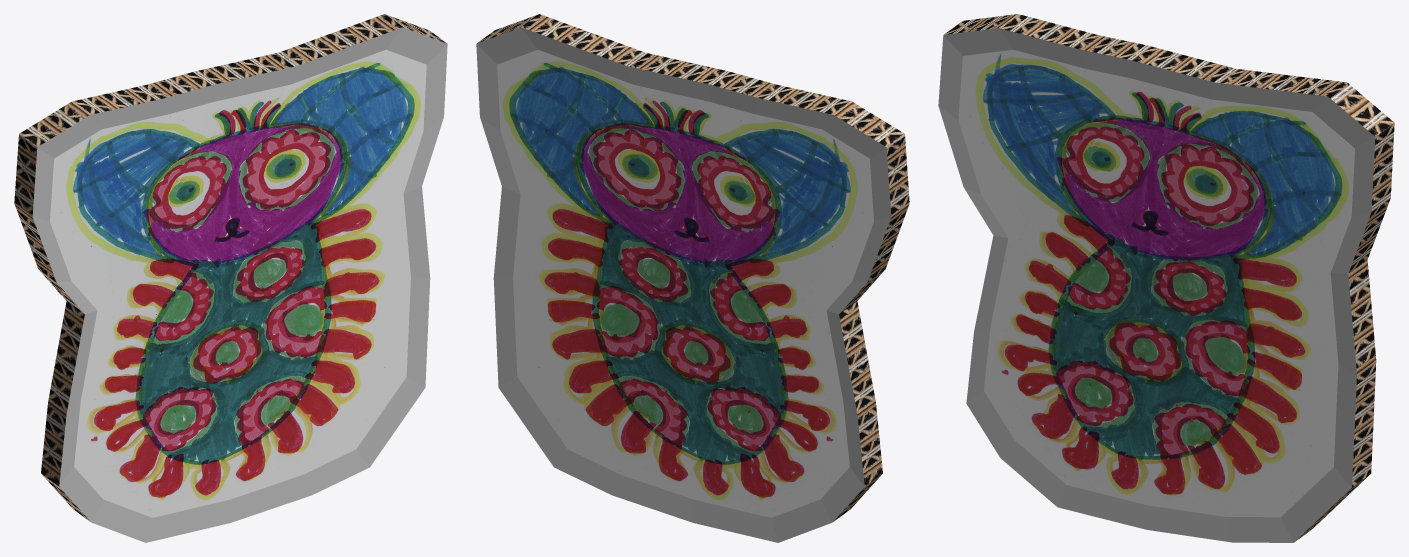
Rendered from HerraKorhonen.fbx.
The picture shows the model from 3 angles, left to right: view 1: azimuth 30°, elevation 25°; view 2: azimuth 150°, elevation 25°; view 3: azimuth 330°, elevation 25°; orthographic projection. The views are drawn at different scales.
Parts seen in each view (by area): view 1: HerraKorhonen; view 2: HerraKorhonen; view 3: HerraKorhonen.
Part boxes in pixels (x1,y1,x2,y2): HerraKorhonen: (14,14,447,542); HerraKorhonen: (476,14,909,542); HerraKorhonen: (938,14,1394,542).
Size of the model in its own units: 206 by 215 by 15.75.
